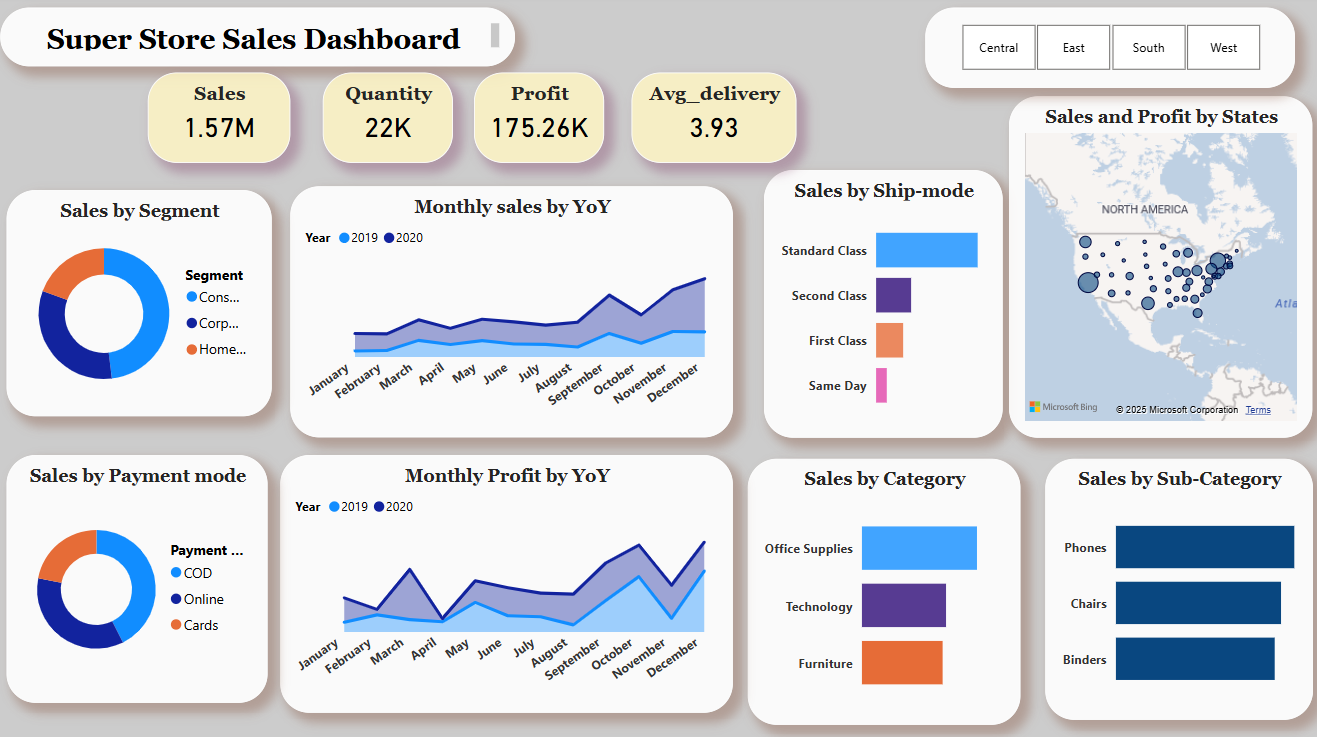

What the dashboard file says about the page in this screenshot:
{"tool":"powerbi","page":{"name":"Page 1","canvas":[1280,720],"ordinal":0},"visuals":[{"type":"clusteredBarChart","title":"Sales by Category","fields":{"Category":["SuperStore_Sales_Dataset.Category"],"Y":["Sum(SuperStore_Sales_Dataset.Sales)"]},"box":[725.9,444.6,263.5,258],"z":0},{"type":"clusteredBarChart","title":"Sales by Sub-Category","fields":{"Y":["Sum(SuperStore_Sales_Dataset.Sales)"],"Category":["SuperStore_Sales_Dataset.Sub-Category"]},"box":[997.6,447.3,258,252.5],"z":1000},{"type":"clusteredBarChart","title":"Sales by Ship-mode","fields":{"Y":["Sum(SuperStore_Sales_Dataset.Sales)"],"Category":["SuperStore_Sales_Dataset.Ship Mode"]},"box":[734.7,168.9,230.4,258.2],"z":2000},{"type":"stackedAreaChart","title":"Monthly sales by YoY","fields":{"Y":["Sum(SuperStore_Sales_Dataset.Sales)"],"Category":["SuperStore_Sales_Dataset.Order Date.Variation.Date Hierarchy.Month","SuperStore_Sales_Dataset.Order Date.Variation.Date Hierarchy.Day"],"Series":["SuperStore_Sales_Dataset.Order Date.Variation.Date Hierarchy.Year"]},"box":[285.9,184.6,427.1,242.5],"z":3000},{"type":"stackedAreaChart","title":"Monthly Profit by YoY","fields":{"Category":["SuperStore_Sales_Dataset.Order Date.Variation.Date Hierarchy.Month","SuperStore_Sales_Dataset.Order Date.Variation.Date Hierarchy.Day"],"Series":["SuperStore_Sales_Dataset.Order Date.Variation.Date Hierarchy.Year"],"Y":["Sum(SuperStore_Sales_Dataset.Profit)"]},"box":[276.3,444,436.7,248.5],"z":4000},{"type":"map","title":"Sales and Profit by States","fields":{"Category":["SuperStore_Sales_Dataset.State"],"Size":["Sum(SuperStore_Sales_Dataset.Sales)"]},"box":[979.6,97.7,293.2,329.4],"z":5000},{"type":"donutChart","title":"Sales by Segment","fields":{"Category":["SuperStore_Sales_Dataset.Segment"],"Y":["Sum(SuperStore_Sales_Dataset.Sales)"]},"box":[12.1,188.2,255.8,218.4],"z":6000},{"type":"donutChart","title":"Sales by Payment mode","fields":{"Y":["Sum(SuperStore_Sales_Dataset.Sales)"],"Category":["SuperStore_Sales_Dataset.Payment Mode"]},"box":[12.1,444,252.1,238.9],"z":7000},{"type":"slicer","fields":{"Values":["SuperStore_Sales_Dataset.Region"]},"box":[898.8,12.1,357.1,77.2],"z":8000},{"type":"textbox","box":[6,12.1,497.1,56.7],"z":9000},{"type":"card","title":" Sales","fields":{"Values":["Sum(SuperStore_Sales_Dataset.Sales)"]},"box":[208.7,74.8,137.5,86.9],"z":10000},{"type":"card","title":"Quantity","fields":{"Values":["Sum(SuperStore_Sales_Dataset.Quantity)"]},"box":[359.5,74.8,125.5,86.9],"z":11000},{"type":"card","title":"Profit","fields":{"Values":["Sum(SuperStore_Sales_Dataset.Profit)"]},"box":[503.1,74.8,125.5,86.9],"z":12000},{"type":"card","title":"Avg_delivery","fields":{"Values":["Avg(SuperStore_Sales_Dataset.Avg_delivery)"]},"box":[649.1,74.8,126.7,78.4],"z":13000}]}

Visuals, with their boxes in screenshot pixels (x1, y1, x2, y2), scaled from the page's 1280x720 canvas onto the 1317x737 screenshot:
"Sales by Category" clusteredBarChart: crop(747, 455, 1018, 719)
"Sales by Sub-Category" clusteredBarChart: crop(1026, 458, 1292, 716)
"Sales by Ship-mode" clusteredBarChart: crop(756, 173, 993, 437)
"Monthly sales by YoY" stackedAreaChart: crop(294, 189, 734, 437)
"Monthly Profit by YoY" stackedAreaChart: crop(284, 454, 734, 709)
"Sales and Profit by States" map: crop(1008, 100, 1310, 437)
"Sales by Segment" donutChart: crop(12, 193, 276, 416)
"Sales by Payment mode" donutChart: crop(12, 454, 272, 699)
slicer - SuperStore_Sales_Dataset.Region: crop(925, 12, 1292, 91)
textbox: crop(6, 12, 518, 70)
" Sales" card: crop(215, 77, 356, 166)
"Quantity" card: crop(370, 77, 499, 166)
"Profit" card: crop(518, 77, 647, 166)
"Avg_delivery" card: crop(668, 77, 798, 157)
